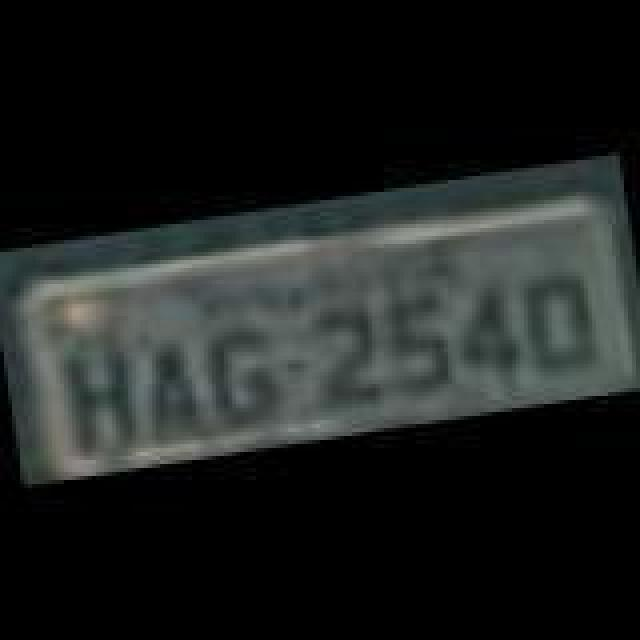2: (300, 304, 388, 416)
4: (446, 274, 530, 390)
5: (380, 288, 468, 400)
A: (138, 332, 214, 444)
G: (200, 318, 288, 434)
H: (54, 334, 138, 450)
O: (516, 262, 604, 378)
